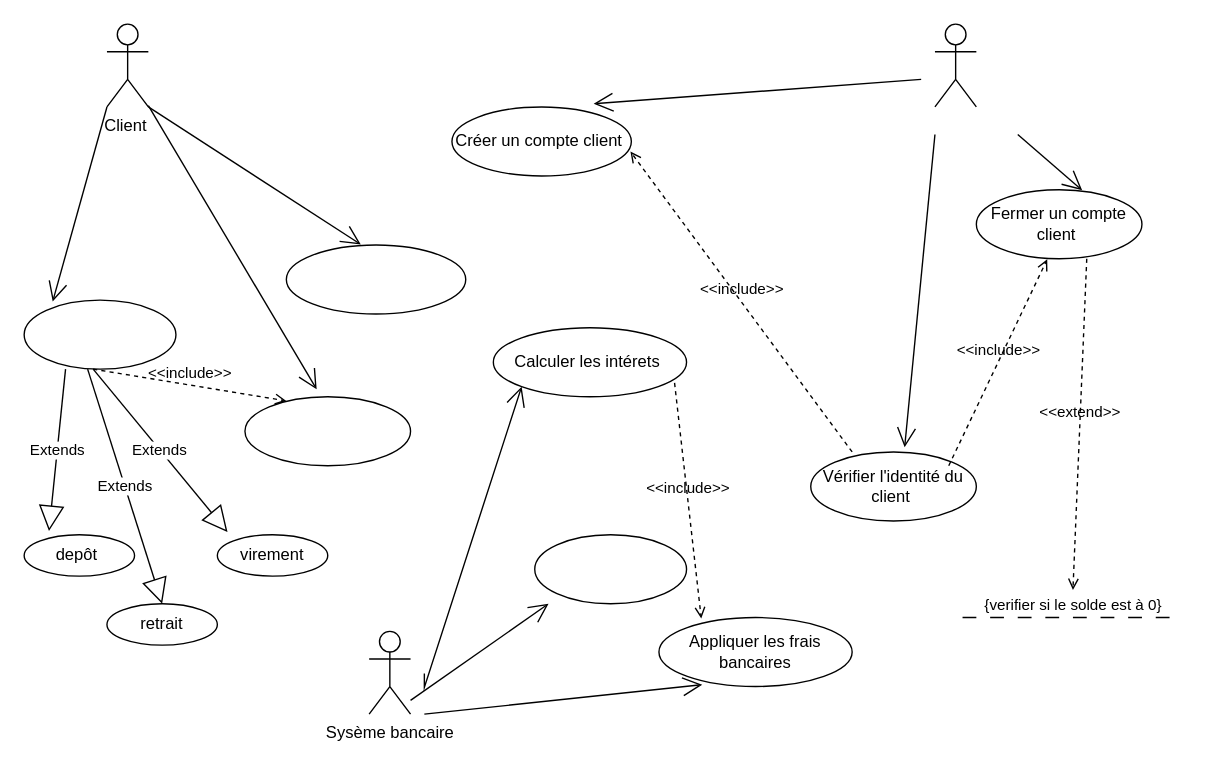
The diagram is 1209 pixels wide and 767 high, and some of its shapes have lost their labels. The centre of each missing label's shape, as x and y in pixels:
Consulter l'historique des trasactions: (375,279)
Consulter son solde: (327,430)
Effectuer une transaction: (99,334)
Envoyer des notifications: (610,568)
Gestionnaire de la banque: (955,65)
